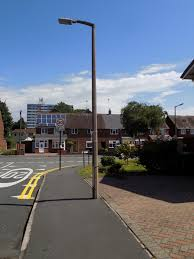light_pole: (62, 18, 104, 202)
